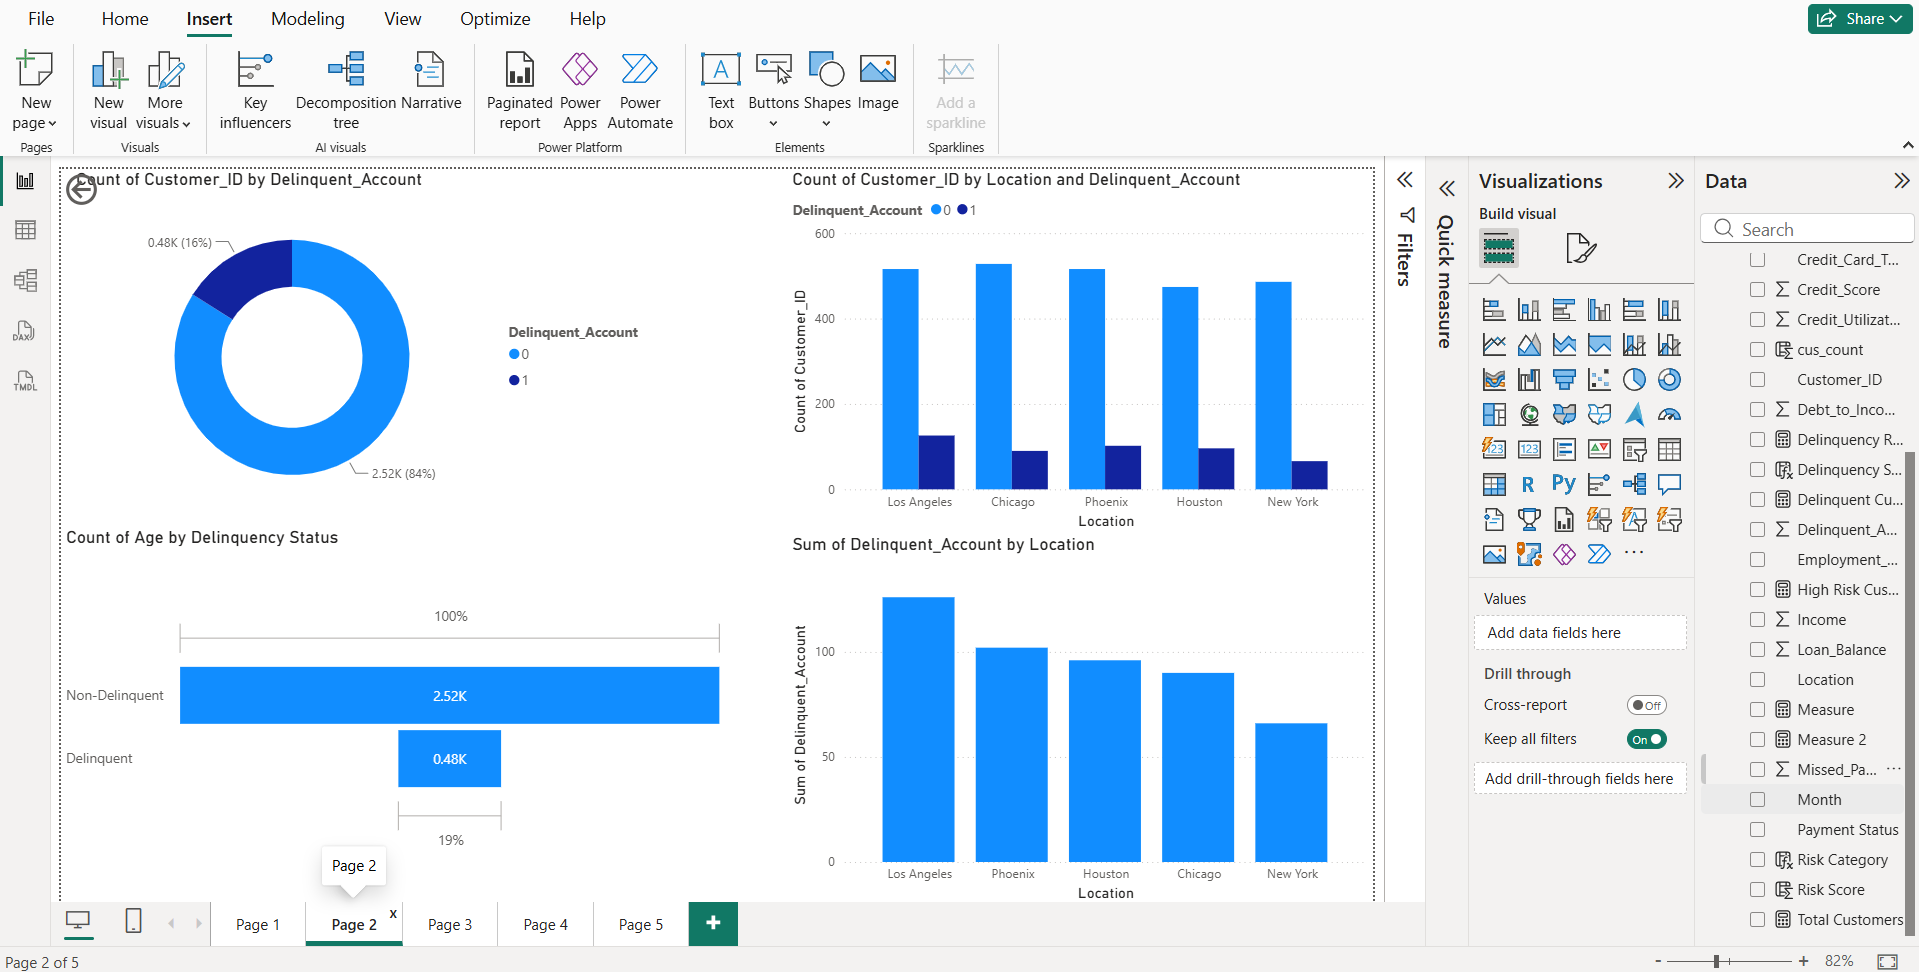

Layout of this report page (visuals, bound fields, positions):
{"tool":"powerbi","page":{"name":"Page 2","canvas":[1280,720],"ordinal":1},"visuals":[{"type":"donutChart","fields":{"Category":["Delinquency_prediction_dataset.Delinquent_Account"],"Y":["CountNonNull(Delinquency_prediction_dataset.Customer_ID)"]},"box":[10,0,572.5,348.8],"z":0},{"type":"funnel","fields":{"Category":["Delinquency_prediction_dataset.Delinquency Status"],"Y":["CountNonNull(Delinquency_prediction_dataset.Age)"]},"box":[0,348.8,652.5,371.2],"z":1000},{"type":"actionButton","box":[0,0,100,40],"z":2000},{"type":"clusteredColumnChart","fields":{"Category":["Delinquency_prediction_dataset.Location"],"Y":["CountNonNull(Delinquency_prediction_dataset.Customer_ID)"],"Series":["Delinquency_prediction_dataset.Delinquent_Account"]},"box":[708.8,0,571.2,356.2],"z":3000},{"type":"clusteredColumnChart","fields":{"Category":["Delinquency_prediction_dataset.Location"],"Y":["Sum(Delinquency_prediction_dataset.Delinquent_Account)"]},"box":[709,356,571,364],"z":4000}]}

Visuals, with their boxes on the page's 1280x720 design canvas (x1, y1, x2, y2). These are canvas units, not pixel positions in the 1919x972 screenshot, which may show the page scaled, cropped or inside an application window:
donutChart - Delinquency_prediction_dataset.Delinquent_Account x CountNonNull(Delinquency_prediction_dataset.Customer_ID): [10, 0, 582, 349]
funnel - Delinquency_prediction_dataset.Delinquency Status x CountNonNull(Delinquency_prediction_dataset.Age): [0, 349, 652, 720]
actionButton: [0, 0, 100, 40]
clusteredColumnChart - Delinquency_prediction_dataset.Location x CountNonNull(Delinquency_prediction_dataset.Customer_ID): [709, 0, 1280, 356]
clusteredColumnChart - Delinquency_prediction_dataset.Location x Sum(Delinquency_prediction_dataset.Delinquent_Account): [709, 356, 1280, 720]
